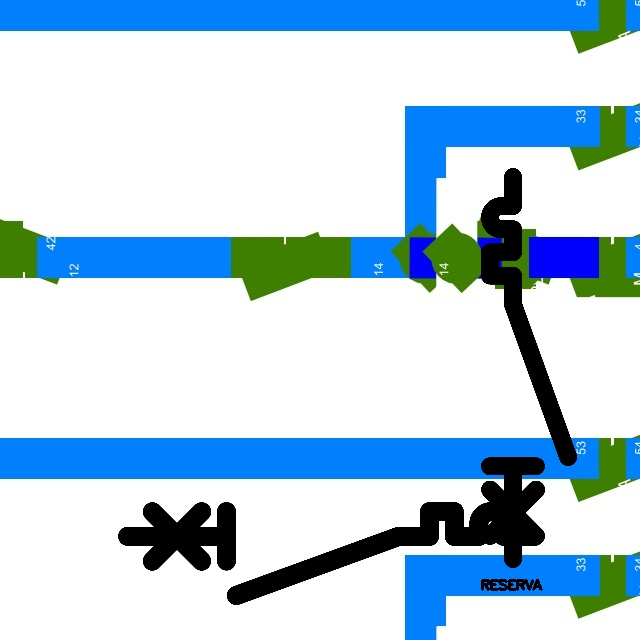interruptor_termomagnetico: (117, 501, 545, 606), (480, 167, 578, 569)
